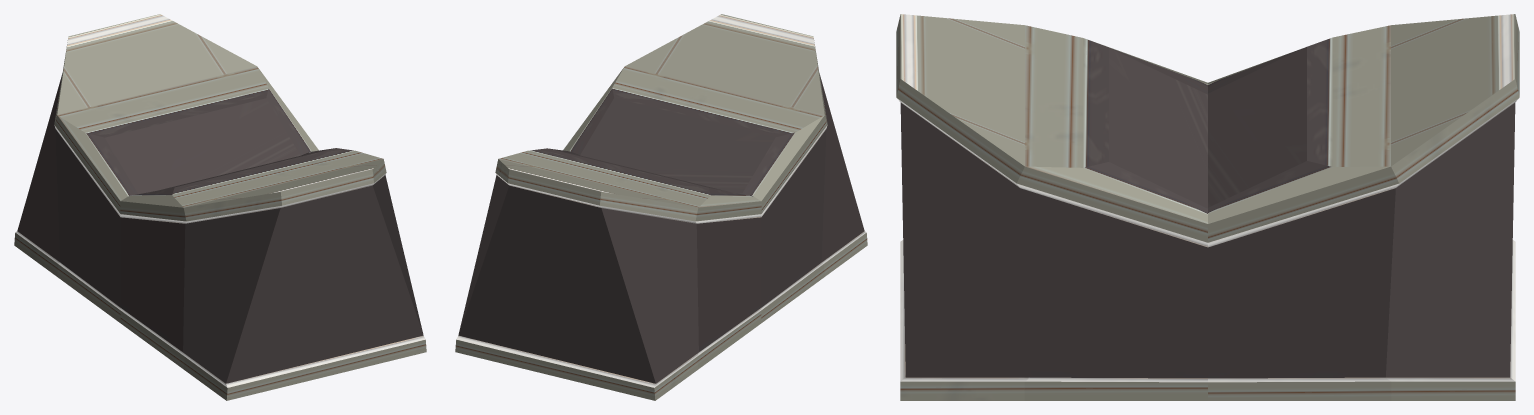
The model's file is KF_SM_XBuilding002.fbx.
The picture shows the model from 3 angles, left to right: view 1: azimuth 30°, elevation 25°; view 2: azimuth 150°, elevation 25°; view 3: azimuth 270°, elevation 25°; orthographic projection. The views are drawn at different scales.
Visible parts, largest first — view 1: KF_SM_XBuilding002; view 2: KF_SM_XBuilding002; view 3: KF_SM_XBuilding002.
Boxes of the visible parts, x1,y1,x2,y2 form: KF_SM_XBuilding002: (14, 14, 426, 400); KF_SM_XBuilding002: (455, 14, 867, 400); KF_SM_XBuilding002: (896, 14, 1519, 400).
Bounding box in the file's own units: 3356 × 3139 × 6251.
